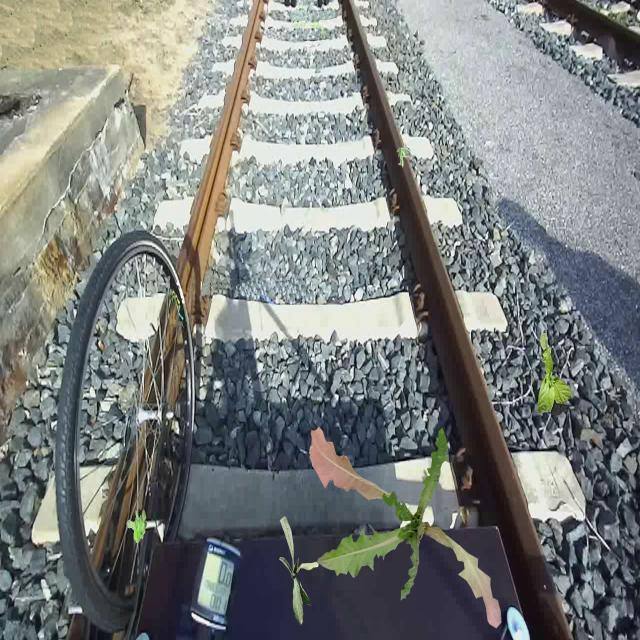Plant: (309, 426, 502, 628), (279, 516, 319, 626), (537, 332, 572, 416), (126, 511, 146, 544), (397, 147, 411, 168)
